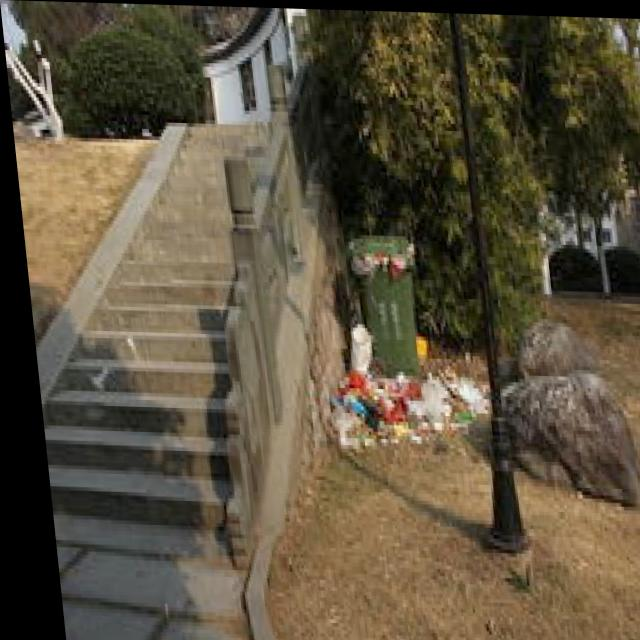garbage: (315, 361, 482, 443)
overflow: (328, 225, 419, 367)
